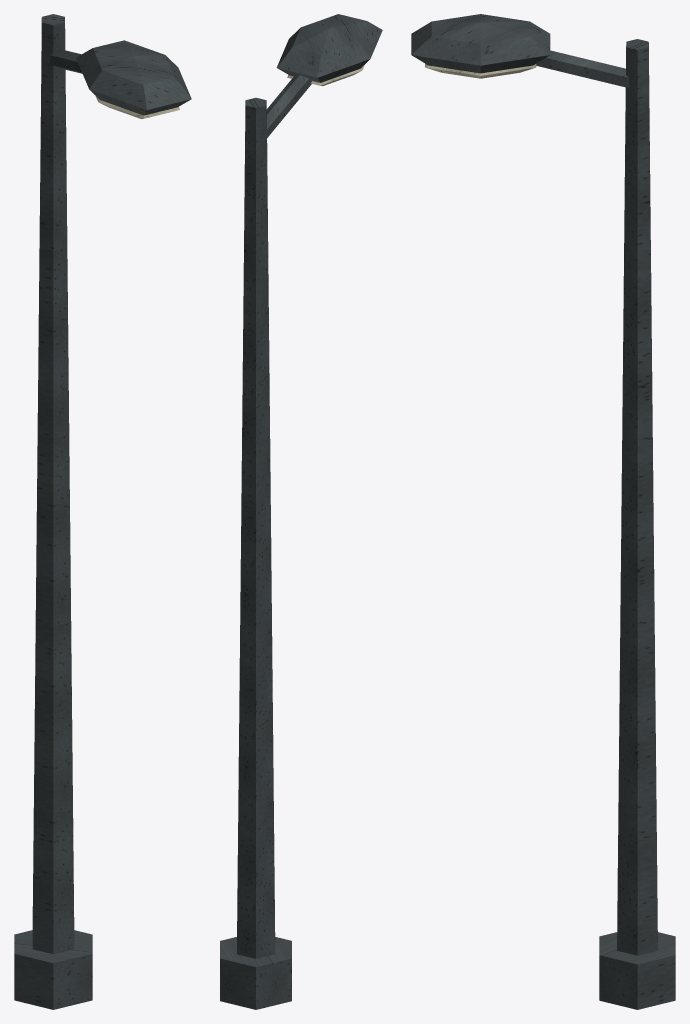
Rendered from PROP-AFCACF124A63_lod2.glb.
3 renders of one model, left to right at view 1: azimuth 30°, elevation 25°; view 2: azimuth 150°, elevation 25°; view 3: azimuth 270°, elevation 25°, orthographic. The views are drawn at different scales.
Visible parts, largest first — view 1: pole.004, lamp_head.004, pole_base.004, lamp_arm.004; view 2: pole.004, lamp_head.004, pole_base.004, lamp_arm.004; view 3: pole.004, lamp_head.004, pole_base.004, lamp_arm.004, light_diffuser.004.
Boxes of the visible parts, box(x1,y1,x2,y2) form: pole.004: box(32, 14, 74, 954); lamp_head.004: box(76, 40, 191, 115); pole_base.004: box(14, 930, 92, 1009); lamp_arm.004: box(50, 49, 82, 73); pole.004: box(237, 97, 275, 958); lamp_head.004: box(276, 14, 382, 82); pole_base.004: box(220, 937, 291, 1009); lamp_arm.004: box(266, 75, 311, 137); pole.004: box(617, 39, 657, 955); lamp_head.004: box(411, 14, 550, 73); pole_base.004: box(599, 932, 675, 1009); lamp_arm.004: box(536, 50, 629, 87); light_diffuser.004: box(425, 63, 536, 78).
Bounding box in the file's own units: 0.5 × 5.32 × 1.32.
2 materials, 2 textured.
